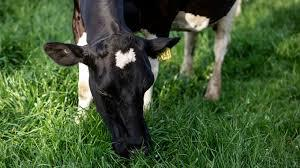cow: (44, 0, 244, 153)
